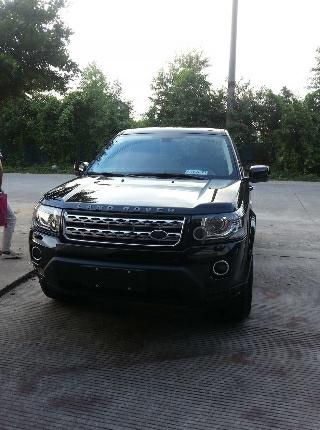MINI-JCWPACEMAN: (21, 139, 257, 328)
